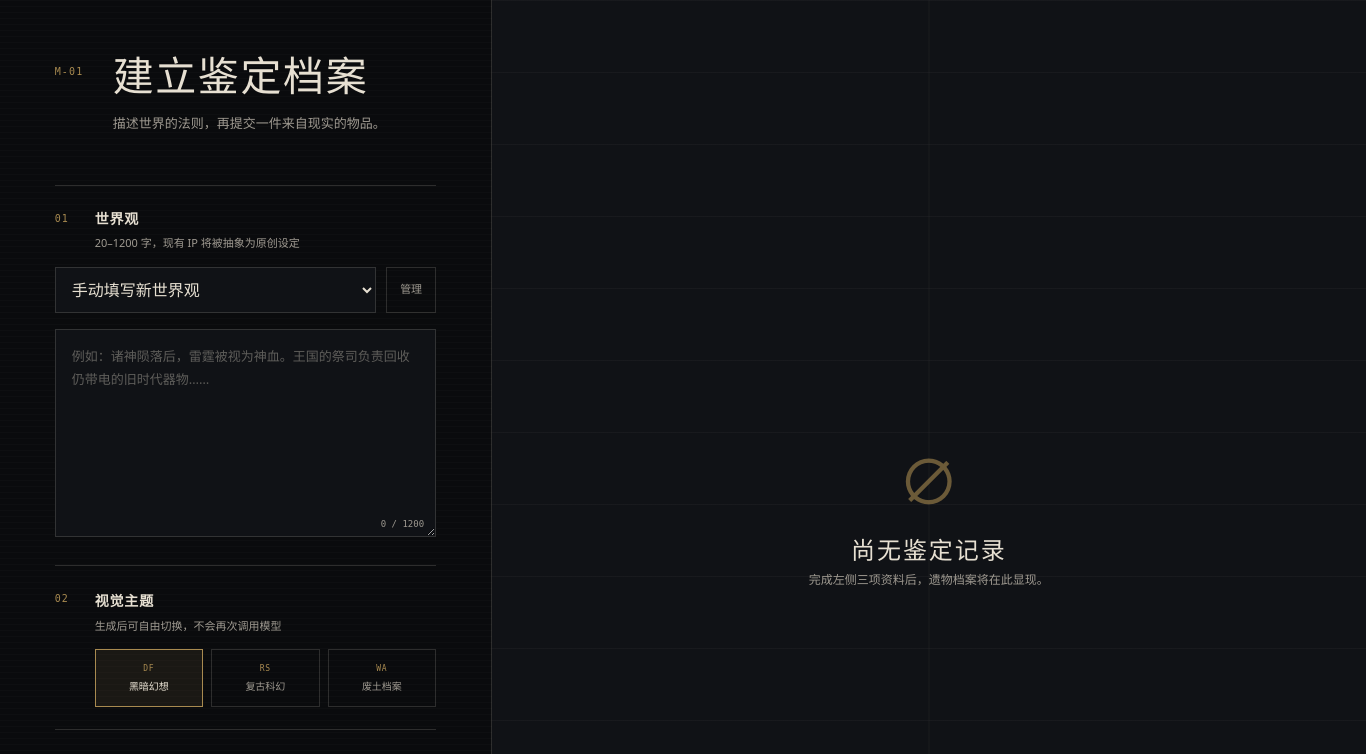
Test: CreateWorkbench › loads a selected local worldview into the editable prompt
This screenshot has width=1366, height=754.
Select "雾钟公国" in the dropdown named "从本地世界观库选择" at (215, 290), box [55,267,376,313]
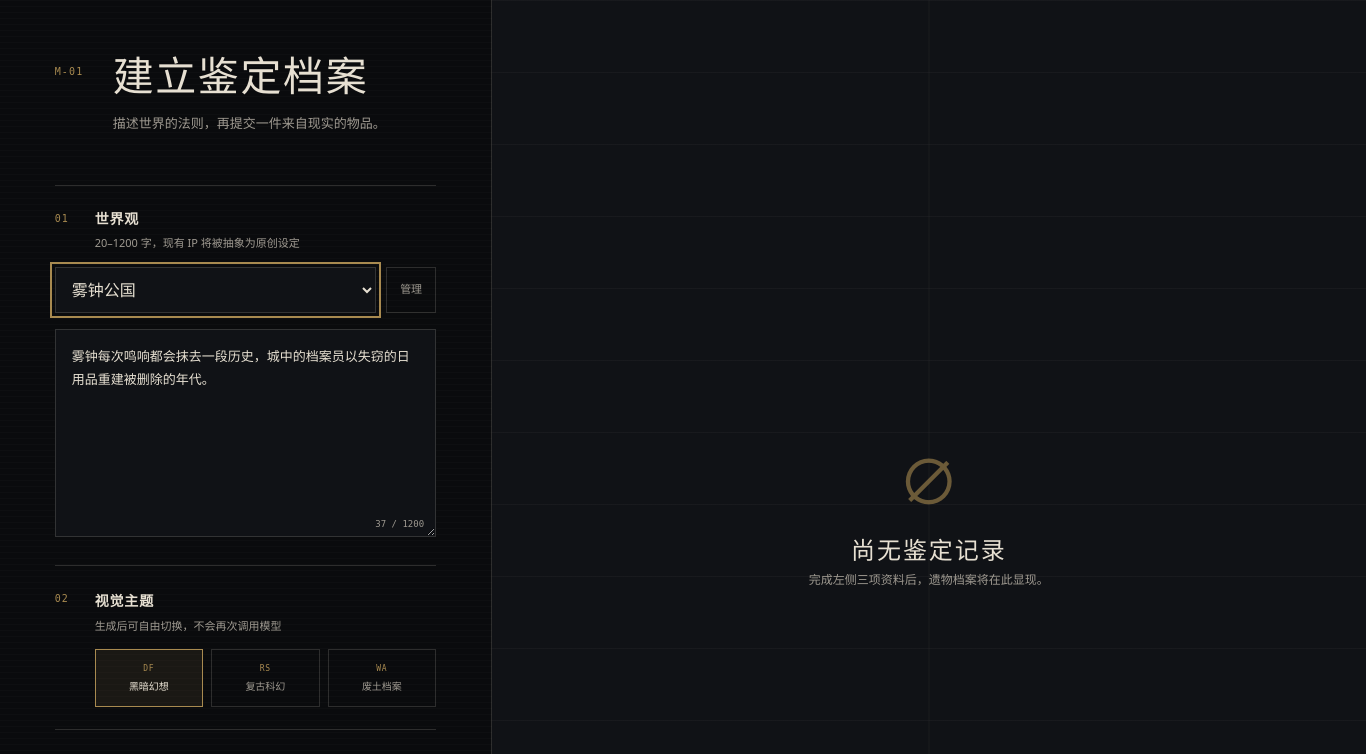
Expected: the text box labelled "世界观" holds "雾钟每次鸣响都会抹去一段历史，城中的档案员以失窃的日用品重建被删除的年代。", [55,329,436,537]
